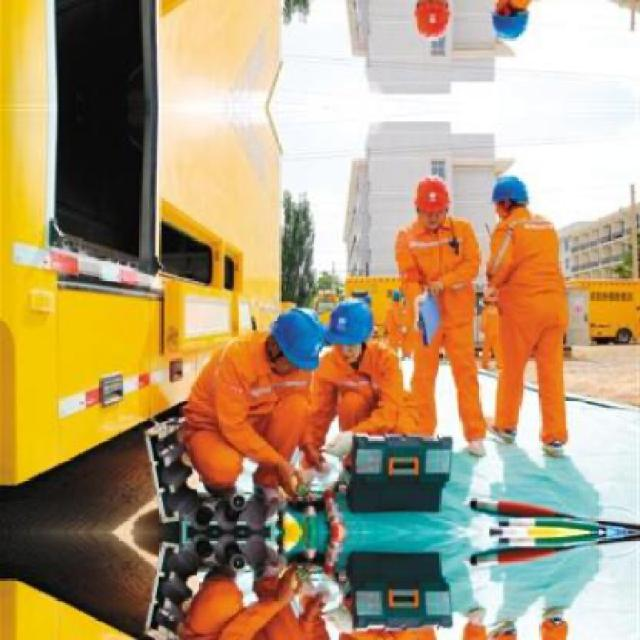con casco: (478, 151, 566, 248), (257, 298, 324, 394), (317, 287, 384, 378), (396, 167, 466, 251)
